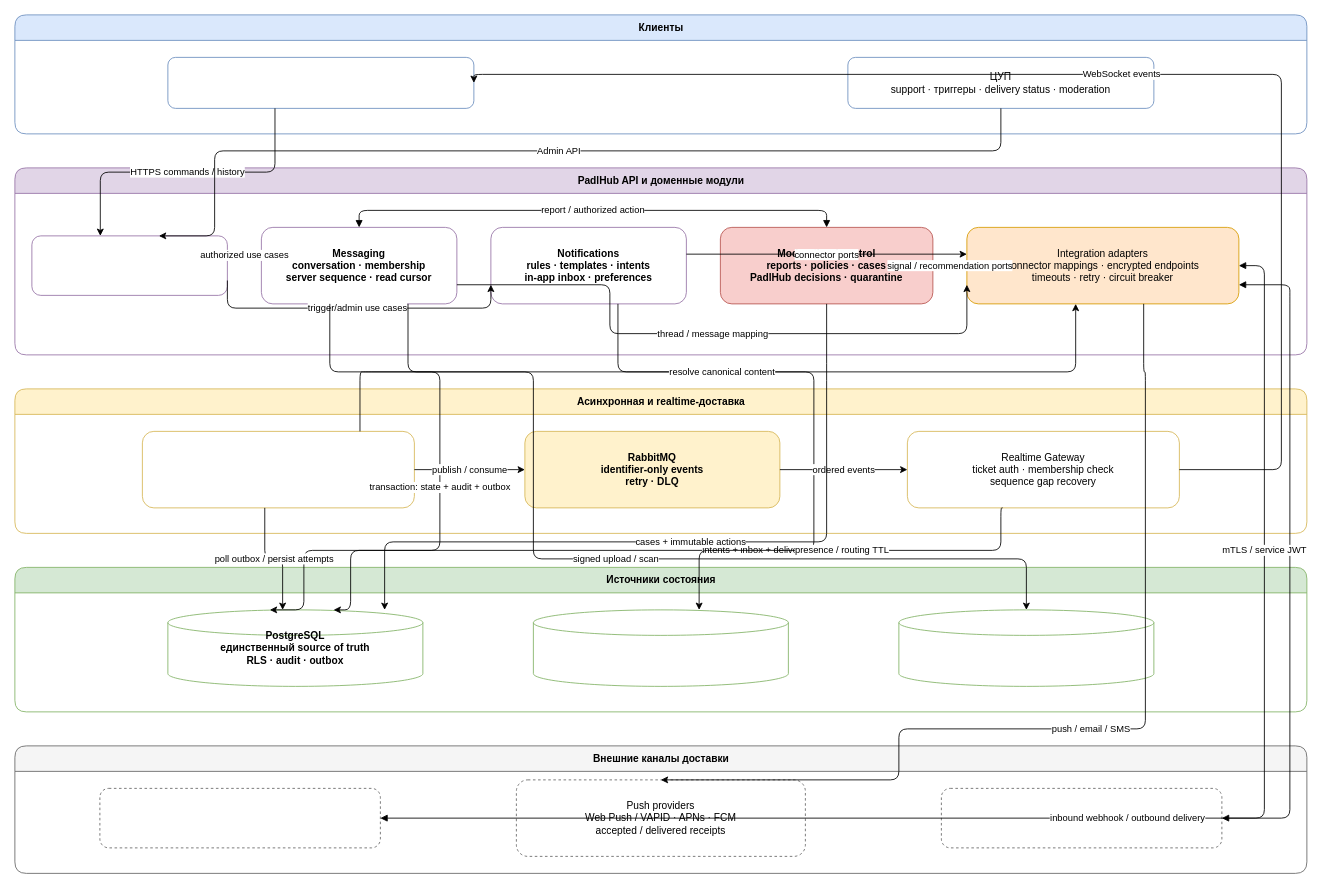
Some shapes in this 1322 by 888 pixel diagram are drawn without their labels. Here are the shapes that lost their labels. From the top down, the centre of each, then its label:
the point at 320,82: Web / iOS / Android чаты · inbox · Web Push / APNs / FCM
the point at 129,265: User / Admin / Webhook API JWT · tenant · idempotency · audit
the point at 278,469: Worker outbox publish · trigger fanout delivery jobs · retry / DLQ
the point at 660,647: Redis presence · typing · connection routing rate limits · short locks
the point at 1026,647: S3-compatible storage private attachments signed URL · malware scan
the point at 239,818: Мессенджер-коннекторы MAX / Telegram / другие adapters
the point at 1081,818: Внешний контроль / moderation signed signals · recommendations only
